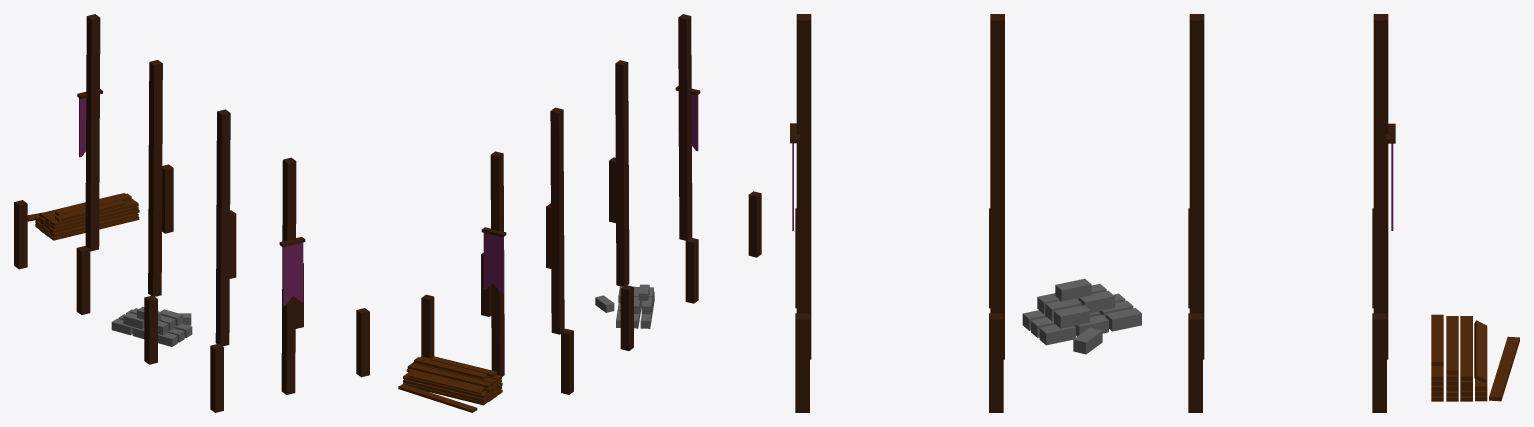
Rendered from EstateBuildPhase1v1.fbx.
3 renders of one model, left to right at view 1: azimuth 30°, elevation 25°; view 2: azimuth 150°, elevation 25°; view 3: azimuth 270°, elevation 25°, orthographic. The views are drawn at different scales.
Visible parts, largest first — view 1: Cube.669; view 2: Cube.669; view 3: Cube.669.
Boxes of the visible parts, left/top/right/bottom form: Cube.669: left=14, top=14, right=369, bottom=412; Cube.669: left=398, top=14, right=761, bottom=412; Cube.669: left=790, top=14, right=1519, bottom=412.
Bounding box in the file's own units: 121 × 173 × 336.
